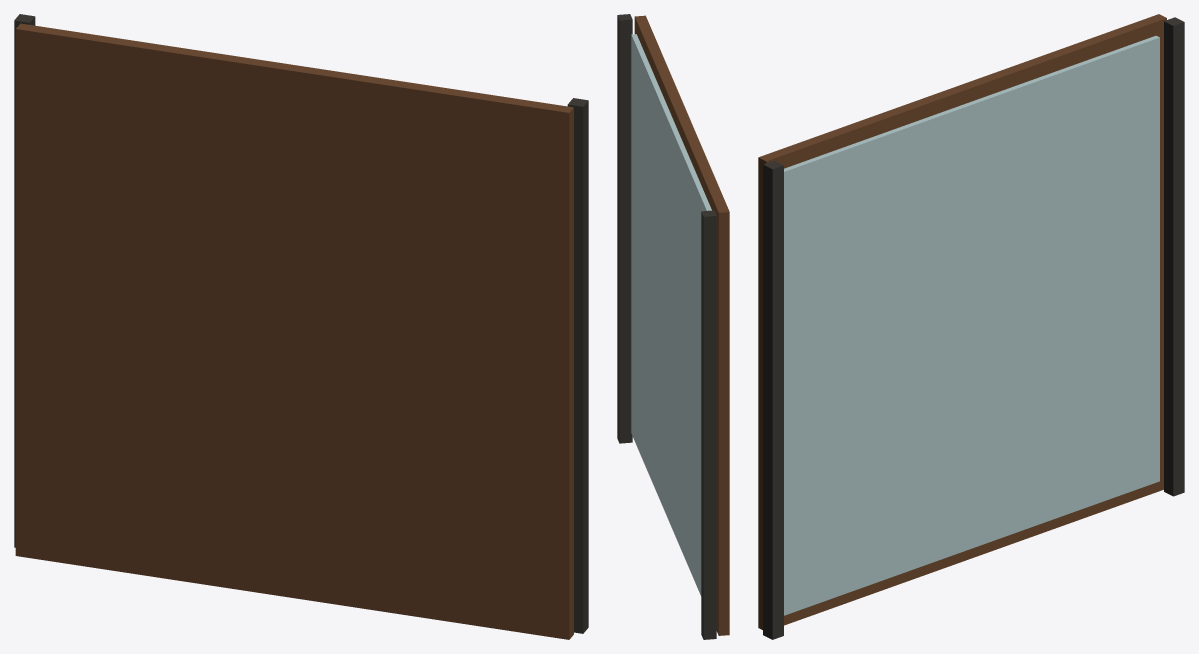
The model's file is bathroom-mirror.gltf.
The picture shows the model from 3 angles, left to right: view 1: azimuth 30°, elevation 25°; view 2: azimuth 150°, elevation 25°; view 3: azimuth 270°, elevation 25°; orthographic projection. The views are drawn at different scales.
Parts seen in each view (by area): view 1: Bathroom mirror backing, Mirror brass side frame (×2); view 2: Bathroom mirror, Mirror brass side frame (×2), Bathroom mirror backing; view 3: Bathroom mirror, Mirror brass side frame (×2), Bathroom mirror backing.
Part boxes in pixels (x1,y1,x2,y2): Bathroom mirror backing: [15, 23, 573, 639]; Mirror brass side frame (×2): [14, 14, 588, 633]; Bathroom mirror: [631, 34, 711, 596]; Mirror brass side frame (×2): [617, 14, 716, 639]; Bathroom mirror backing: [634, 15, 729, 635]; Bathroom mirror: [784, 35, 1159, 615]; Mirror brass side frame (×2): [763, 17, 1184, 639]; Bathroom mirror backing: [758, 14, 1166, 629].
Size of the model in its own units: 0.6232 by 0.88 by 0.7227.
